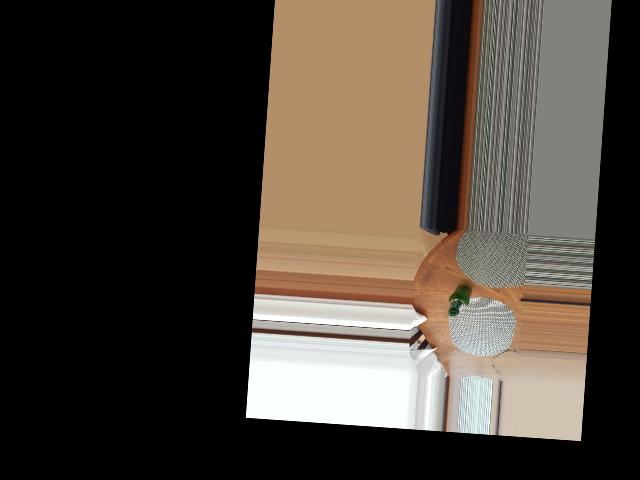beer: (447, 283, 471, 317)
